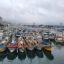fishing boat: (42, 38, 55, 52), (7, 37, 17, 53), (0, 36, 8, 54), (17, 38, 26, 53), (28, 38, 36, 52), (36, 38, 42, 52)
